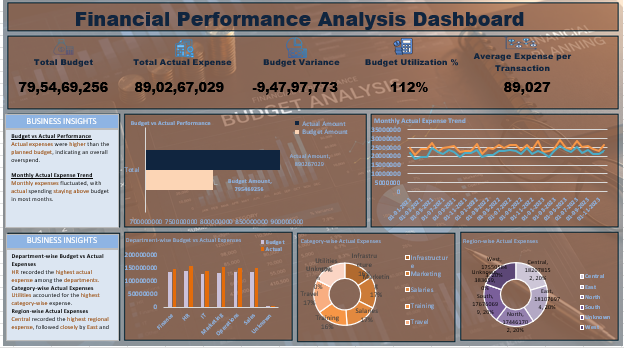

This screenshot's page, from the dashboard's own definition file:
{"tool":"tableau","page":{"name":"Dashboard 1","canvas":[1600,900],"ordinal":0},"visuals":[{"type":"image","param":"Image/Presentation1.png","box":[8,8,1584,884]},{"type":"text","box":[309,28,940,68]},{"type":"filter","title":"Budget vs Actual Expense","param":"[federated.0vcjdtp0bkgeri15qgudp1w66jfi].[none:Date:qk]","box":[1389,37,167,54]},{"type":"filter","title":"Budget vs Actual Expense","param":"[federated.0vcjdtp0bkgeri15qgudp1w66jfi].[none:Category:nk]","box":[1218,38,160,56]},{"type":"image","param":"Image/budget utilization.png","box":[1125,114,77,42]},{"type":"image","param":"Image/14432586.png","box":[343,117,60,37]},{"type":"image","param":"Image/Budget varieance.png","box":[864,117,56,40]},{"type":"image","param":"Image/average expenses per transation.png","box":[1384,118,68,47]},{"type":"image","param":"Image/Total ACTUal expenses.png","box":[619,120,46,34]},{"type":"worksheet","title":"KPI Summary","mark":"Automatic","box":[254,141,1305,108]},{"type":"dashboard-object","box":[38,152,188,61]},{"type":"text","box":[35,271,202,35]},{"type":"worksheet","title":"Monthly Budget vs Actual Expenses","mark":"Automatic","cols":["Month-Year Date"],"box":[922,274,635,289]},{"type":"worksheet","title":"Budget vs Actual Expense","mark":"Automatic","box":[259,276,642,286]},{"type":"text","box":[33,310,202,250]},{"type":"text","box":[32,582,205,25]},{"type":"worksheet","title":"Department-wise Budget vs Actual Expenses","mark":"Automatic","cols":["Department"],"box":[256,583,429,284]},{"type":"worksheet","title":"Region-wise Actual Expense","mark":"Pie","rows":["Calculation_0741660436721675","Calculation_0741660436758541"],"box":[1146,585,413,282]},{"type":"worksheet","title":"Category-wise Actual Expense","mark":"Pie","rows":["Calculation_0741660433207301","Calculation_0741660433719304"],"box":[710,586,413,282]},{"type":"text","box":[32,604,204,270]}]}

Visuals, with their boxes in screenshot pixels (x1, y1, x2, y2), scaled from the page's 1600x900 canvas onto the 624x348 screenshot:
image: crop(3, 3, 621, 345)
text: crop(121, 11, 487, 37)
"Budget vs Actual Expense" filter: crop(542, 14, 607, 35)
"Budget vs Actual Expense" filter: crop(475, 15, 537, 36)
image: crop(439, 44, 469, 60)
image: crop(134, 45, 157, 60)
image: crop(337, 45, 359, 61)
image: crop(540, 46, 566, 64)
image: crop(241, 46, 259, 60)
"KPI Summary" worksheet: crop(99, 55, 608, 96)
dashboard-object: crop(15, 59, 88, 82)
text: crop(14, 105, 92, 118)
"Monthly Budget vs Actual Expenses" worksheet: crop(360, 106, 607, 218)
"Budget vs Actual Expense" worksheet: crop(101, 107, 351, 217)
text: crop(13, 120, 92, 217)
text: crop(12, 225, 92, 235)
"Department-wise Budget vs Actual Expenses" worksheet: crop(100, 225, 267, 335)
"Region-wise Actual Expense" worksheet (Pie marks): crop(447, 226, 608, 335)
"Category-wise Actual Expense" worksheet (Pie marks): crop(277, 227, 438, 336)
text: crop(12, 234, 92, 338)
